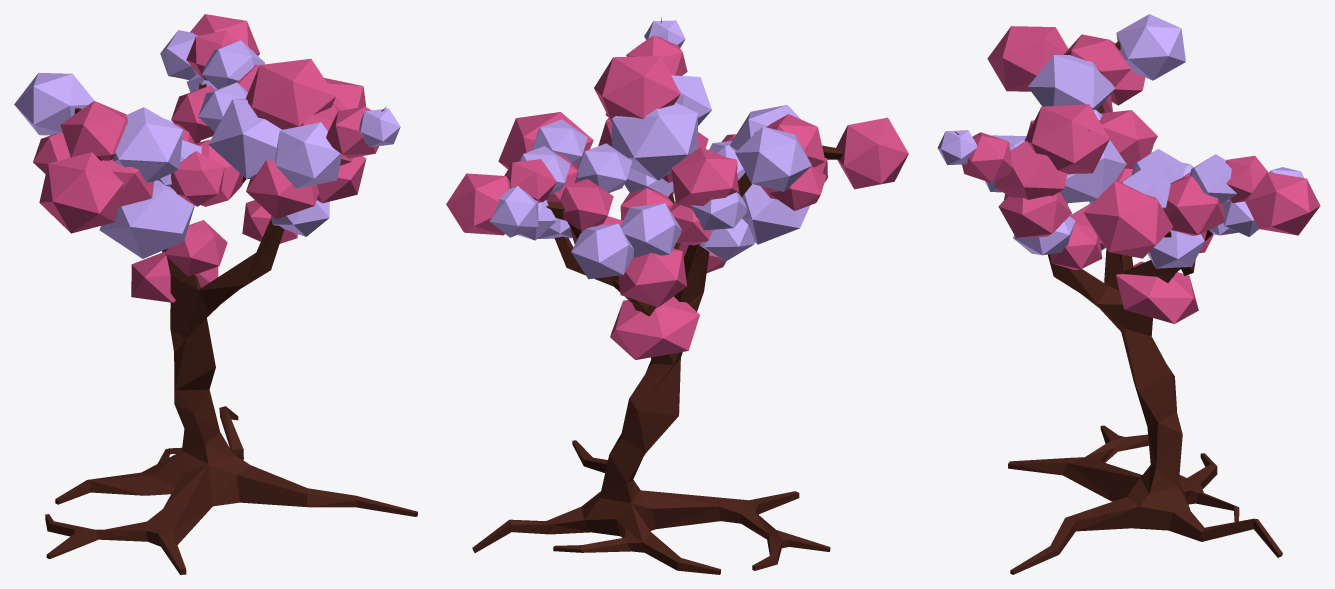
Rendered from Sakura_3 Asia.fbx.
The picture shows the model from 3 angles, left to right: view 1: azimuth 30°, elevation 25°; view 2: azimuth 150°, elevation 25°; view 3: azimuth 270°, elevation 25°; orthographic projection. The views are drawn at different scales.
Visible parts, largest first — view 1: Sakura_3; view 2: Sakura_3; view 3: Sakura_3.
Boxes of the visible parts, x1=… form: Sakura_3: x1=14, y1=14, x2=417, y2=574; Sakura_3: x1=446, y1=17, x2=908, y2=574; Sakura_3: x1=937, y1=14, x2=1320, y2=574.
Bounding box in the file's own units: 2.94 × 3.52 × 2.88.
